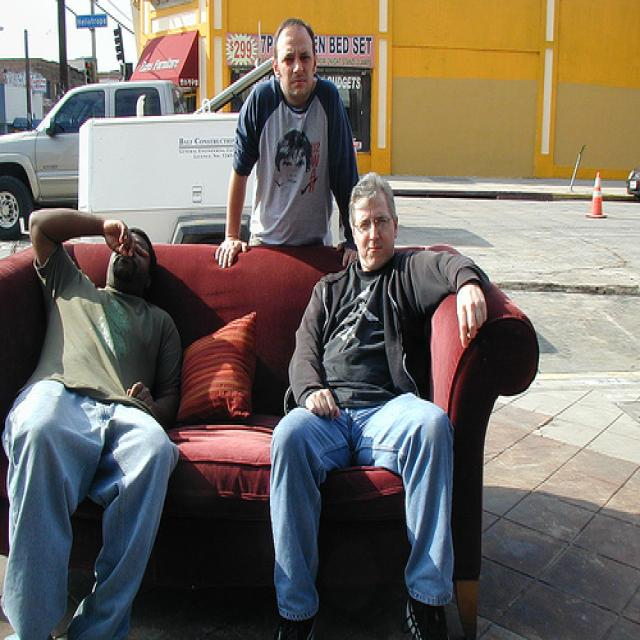light_vehicle: (0, 56, 274, 241)
